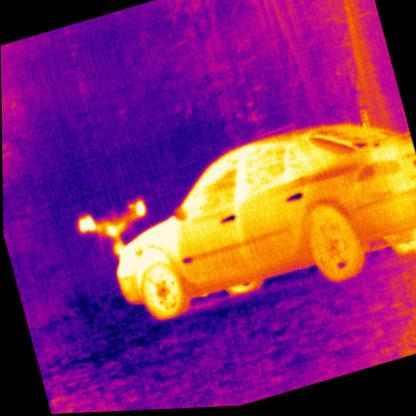drone: (71, 194, 156, 266)
vehicle: (91, 100, 415, 343)
